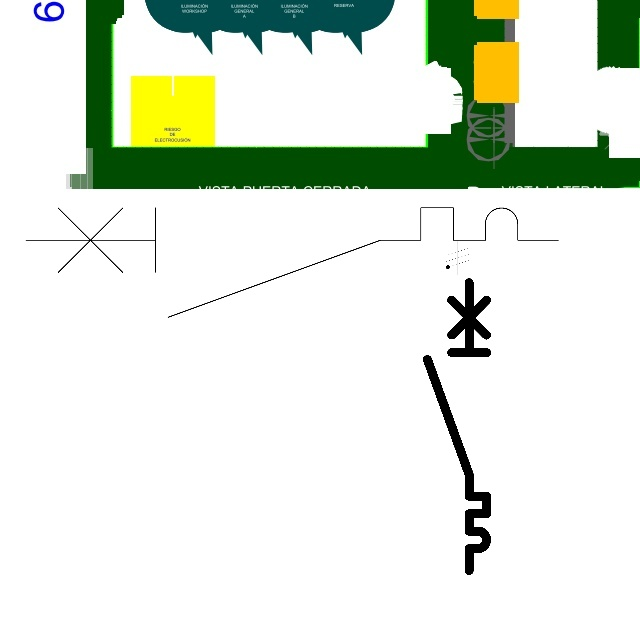interruptor_termomagnetico: (12, 194, 572, 331), (420, 275, 494, 578)
